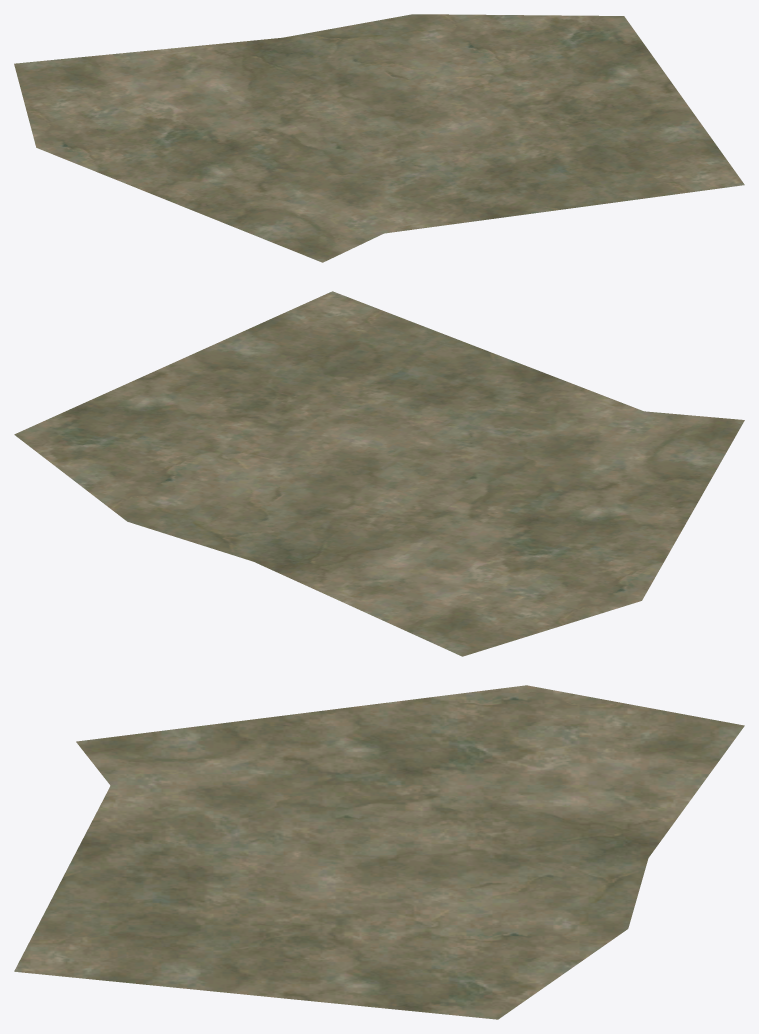
The model's file is OVERHILL_A_01_GROUND3.fbx.
3 renders of one model, top to bottom at view 1: azimuth 30°, elevation 25°; view 2: azimuth 150°, elevation 25°; view 3: azimuth 270°, elevation 25°, orthographic. The views are drawn at different scales.
Parts seen in each view (by area): view 1: OVERHILL_A_01_GROUND3; view 2: OVERHILL_A_01_GROUND3; view 3: OVERHILL_A_01_GROUND3.
Boxes of the visible parts, x1,y1,x2,y2 form: OVERHILL_A_01_GROUND3: (14,14,744,262); OVERHILL_A_01_GROUND3: (14,291,744,656); OVERHILL_A_01_GROUND3: (14,685,744,1019).
Bounding box in the file's own units: 28373 × 0.00427 × 26209.
Materials: 1 (1 with a texture image).
